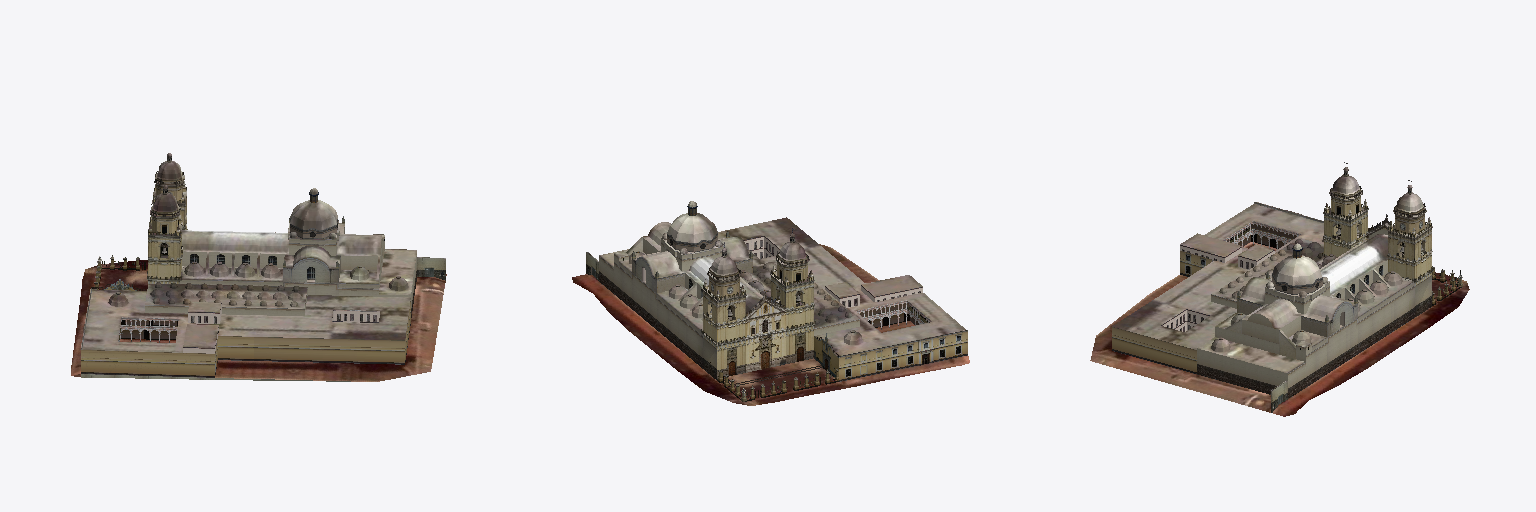
3 views of the same model, side by side, from view 1: azimuth 30°, elevation 25°; view 2: azimuth 150°, elevation 25°; view 3: azimuth 270°, elevation 25° (orthographic).
Visible parts, largest first — view 1: Mesh.016_Mesh32_Componente_1_1_Model; view 2: Mesh.016_Mesh32_Componente_1_1_Model; view 3: Mesh.016_Mesh32_Componente_1_1_Model.
Part boxes in pixels (bbox=[...]): Mesh.016_Mesh32_Componente_1_1_Model: bbox=[71, 153, 446, 381]; Mesh.016_Mesh32_Componente_1_1_Model: bbox=[572, 201, 969, 405]; Mesh.016_Mesh32_Componente_1_1_Model: bbox=[1090, 167, 1469, 416].
Bounding box in the file's own units: 4.86 × 1.6 × 4.13.
51 materials, 50 textured.